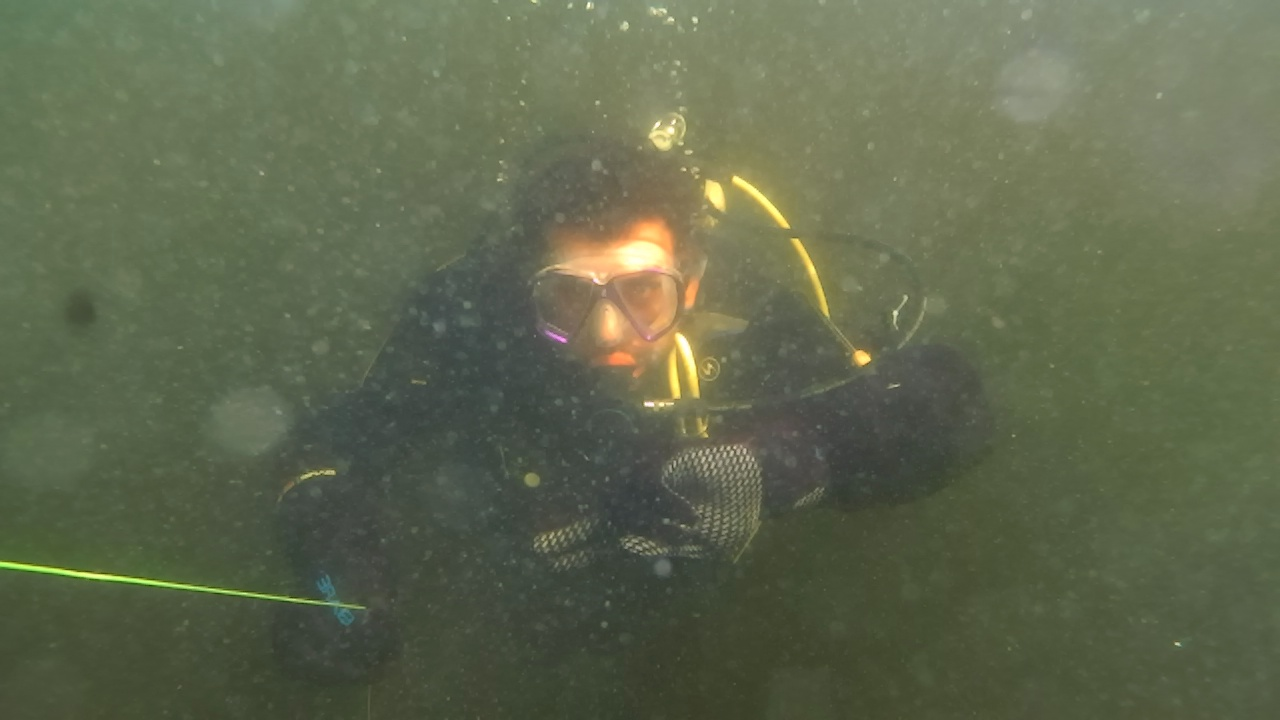Diver: (266, 80, 1062, 606)
Hand: (602, 432, 832, 606), (260, 514, 430, 692)
Head: (480, 110, 716, 396)
